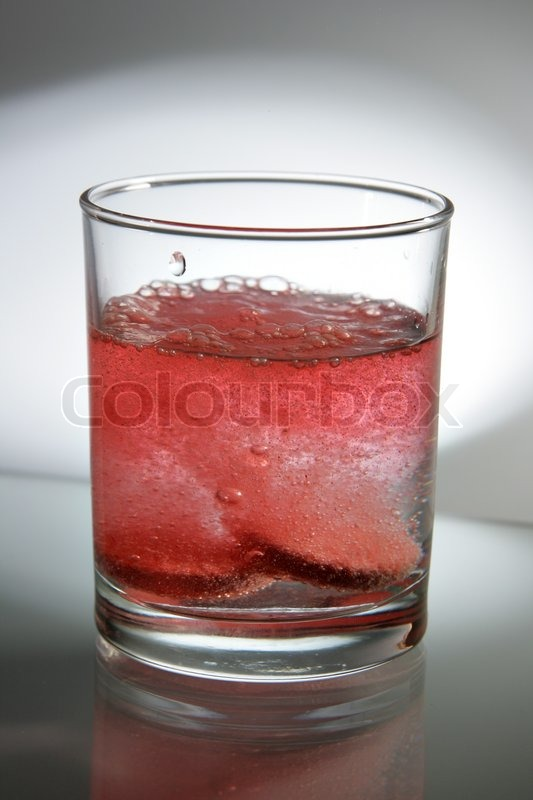glass of water: (81, 193, 448, 673)
